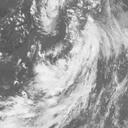cyclone: (32, 4, 101, 95)
